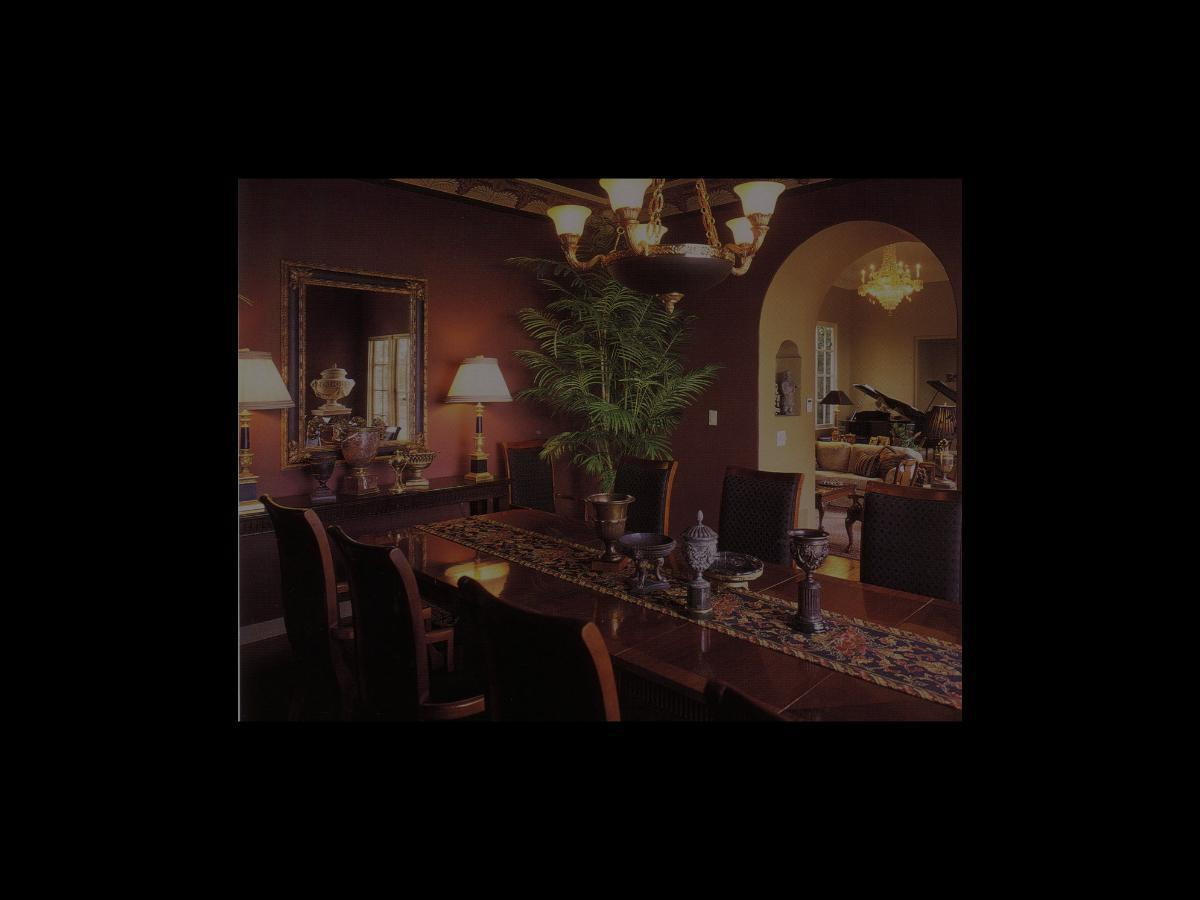Matera: (505, 213, 722, 633)
